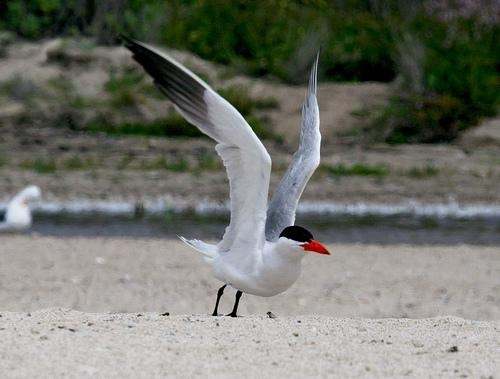bird: (116, 38, 331, 318)
